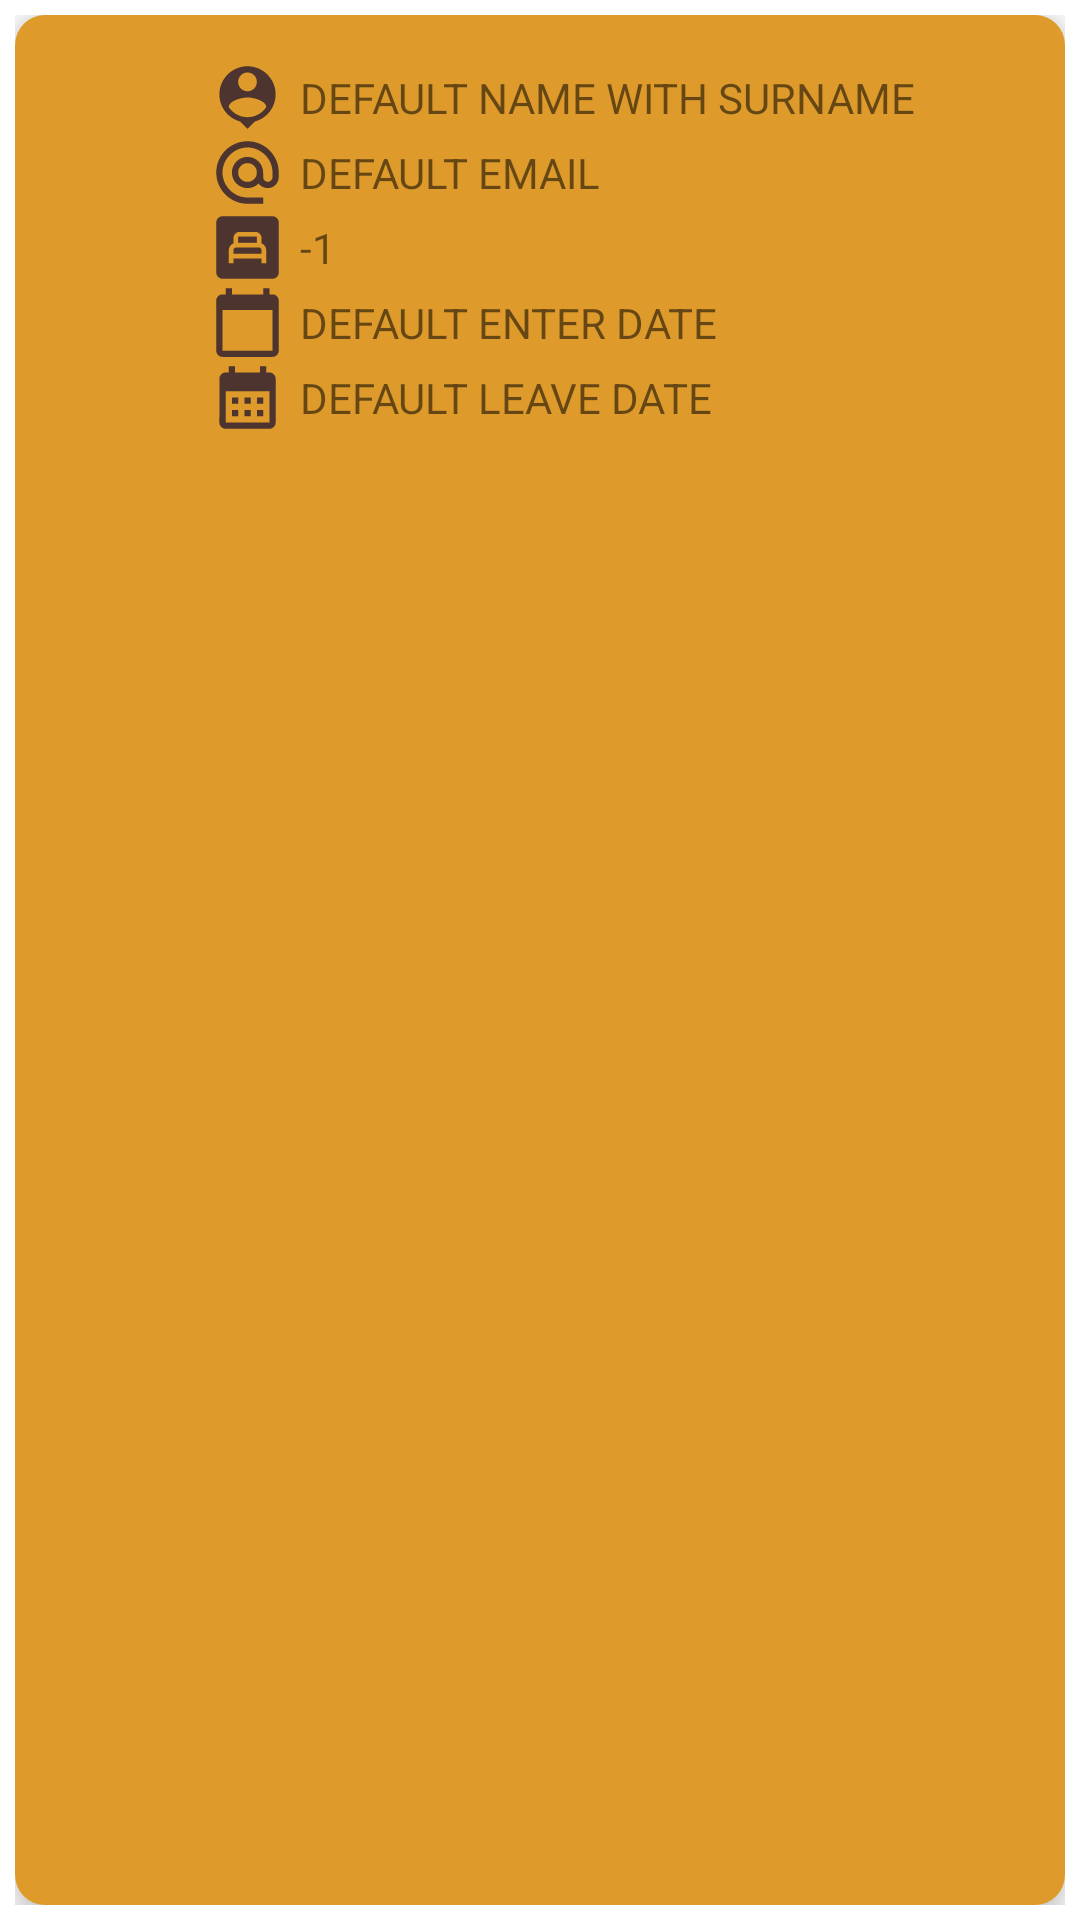

Where icons sit on this 1080w x 1920h app screen, as bbox(x1, y1, x2, y2):
calendar: bbox(216, 288, 279, 357), bbox(219, 366, 276, 429)
person: bbox(219, 66, 276, 129)
room: bbox(216, 216, 279, 279)
